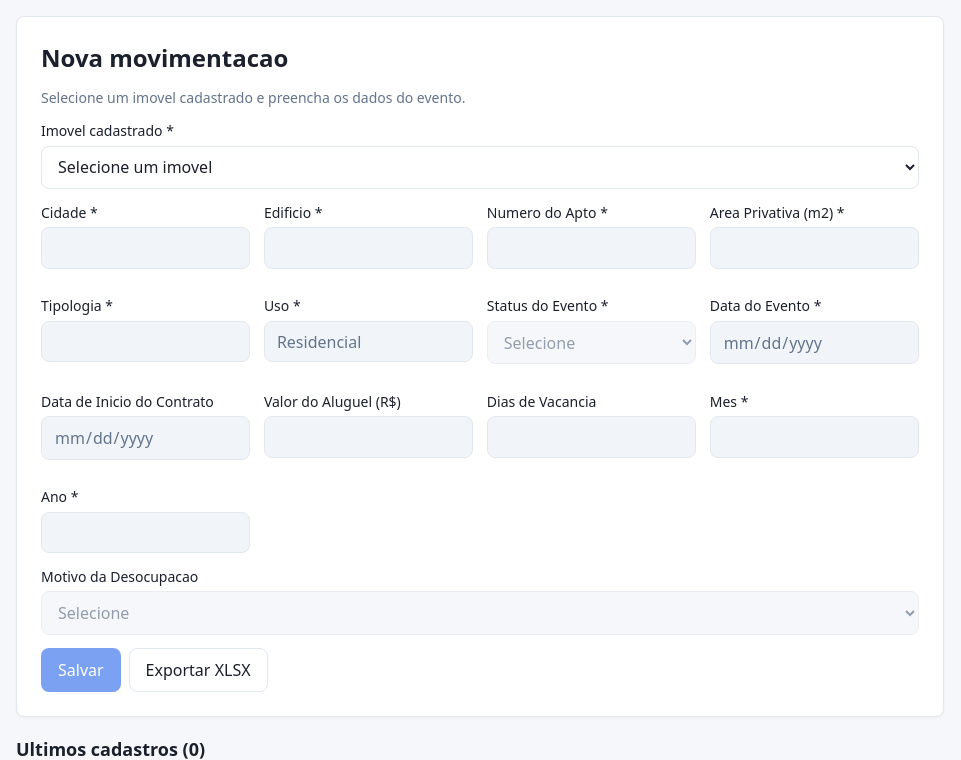
CadastroContent › enables only locacao fields and clears desocupacao fields for Locacao status
Select "Florianopolis - Plaza Mediterraneo - apto 326" in the dropdown labelled "Imovel cadastrado *" at point(480, 167), box [41, 146, 919, 189]
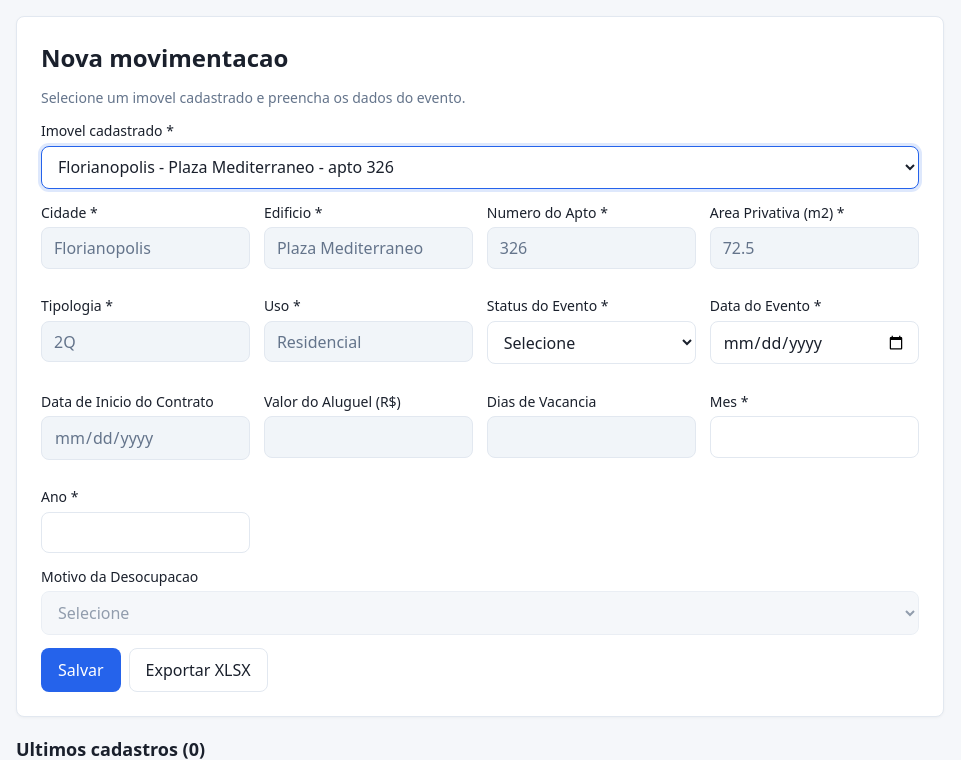
Select "Desocupacao" in the dropdown labelled "Status do Evento *" at point(591, 343), box [487, 321, 696, 364]
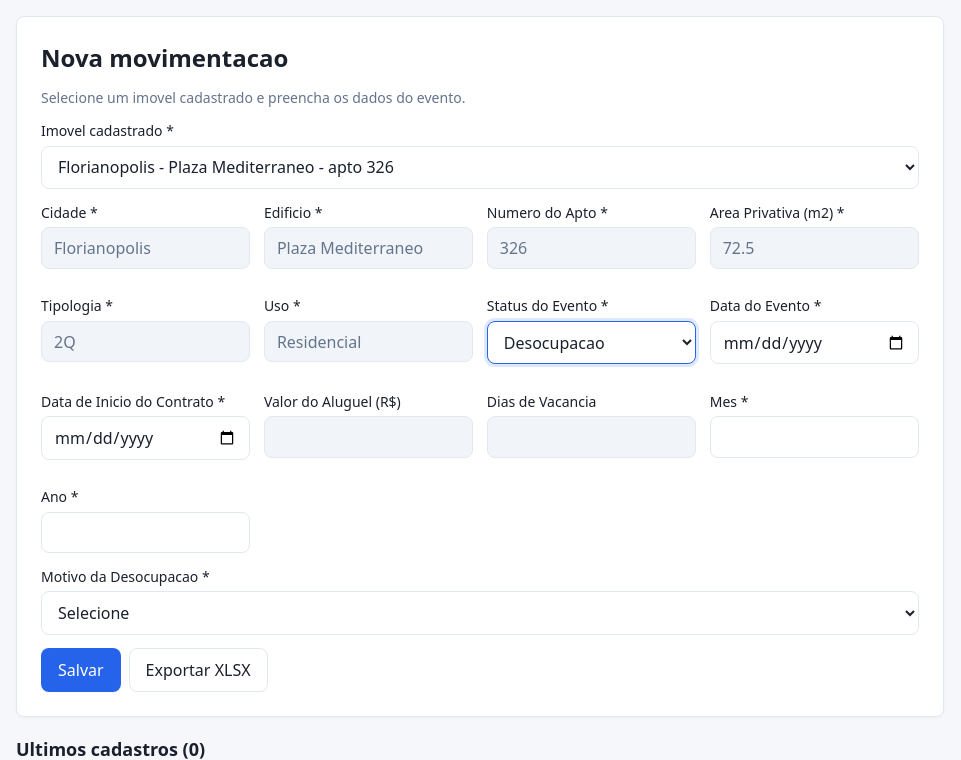
Type "2023-10-24" into the date field labelled "Data de Inicio do Contrato *".
click(146, 438); type("2023-10-24")  # box [41, 416, 250, 460]
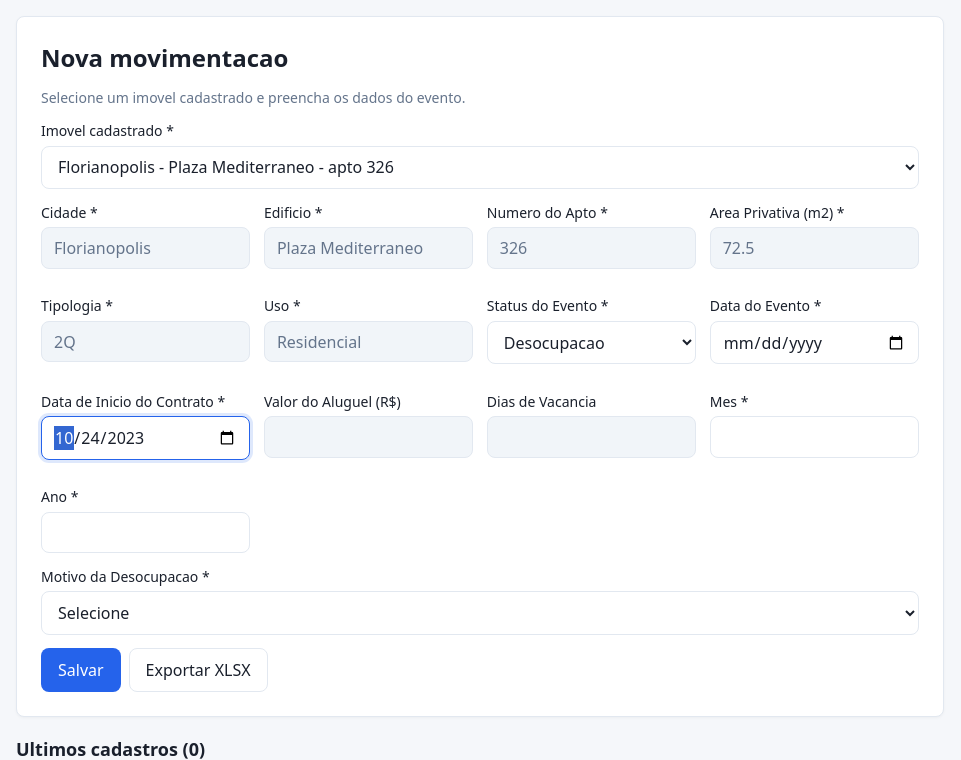
Select "Mudança geográfica" in the dropdown labelled "Motivo da Desocupacao *" at point(480, 613), box [41, 591, 919, 635]
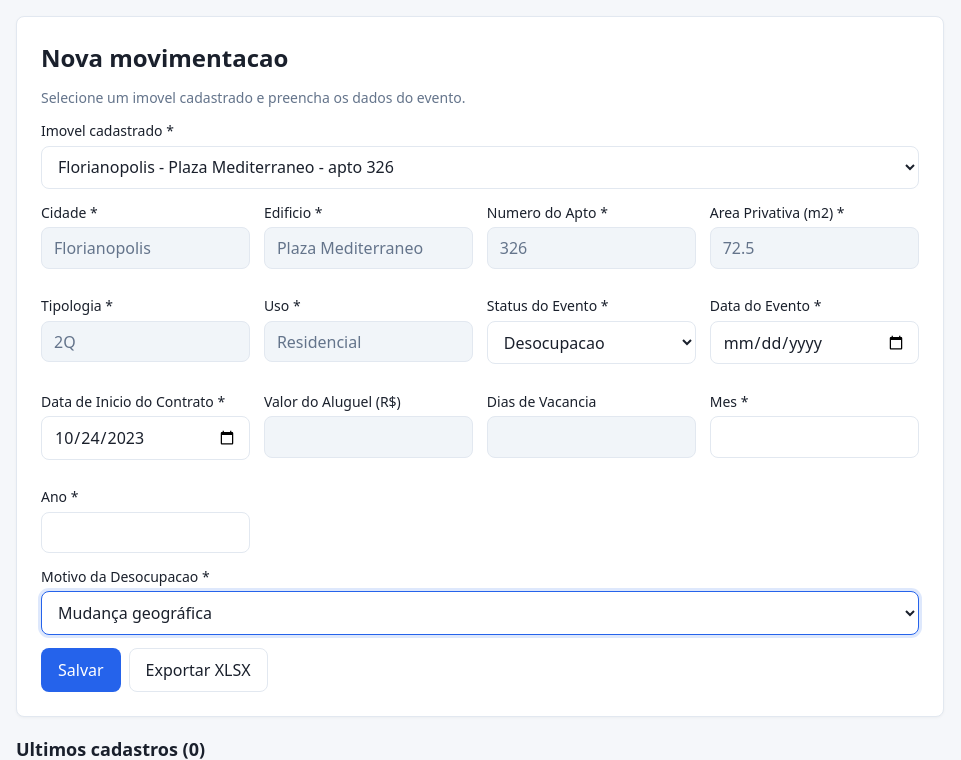
Select "Locacao" in the dropdown labelled "Status do Evento *" at point(591, 343), box [487, 321, 696, 364]
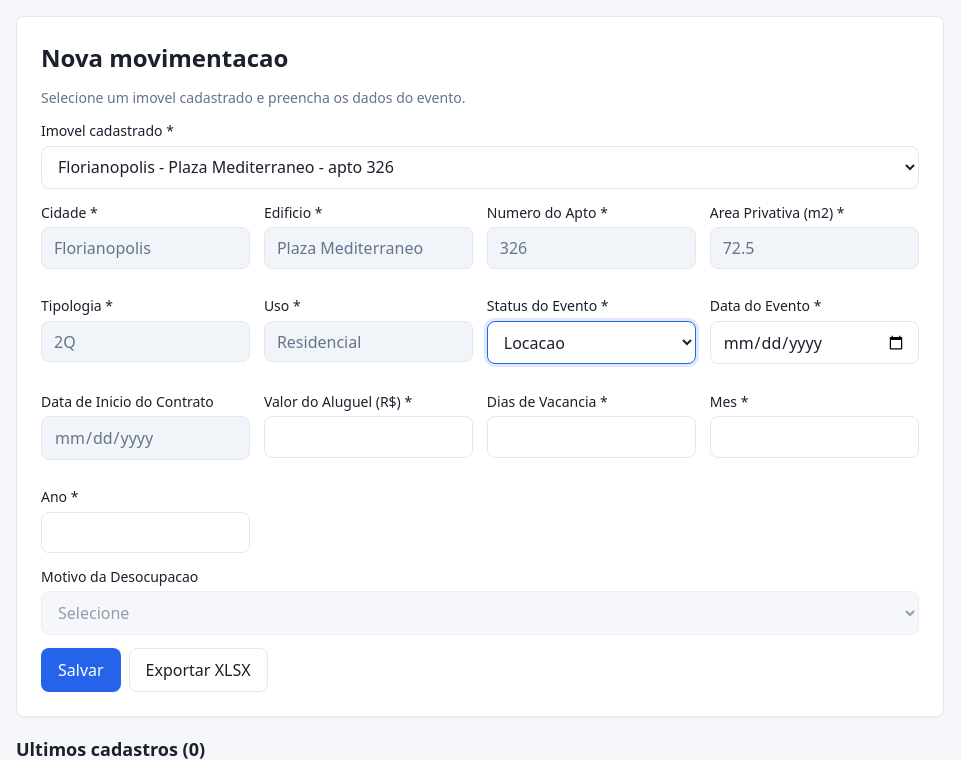
Expected: the date field labelled "Data de Inicio do Contrato" is disabled, [41, 416, 250, 460]
Expected: the date field labelled "Data de Inicio do Contrato" is empty, [41, 416, 250, 460]
Expected: the dropdown labelled "Motivo da Desocupacao" is disabled, [41, 591, 919, 635]
